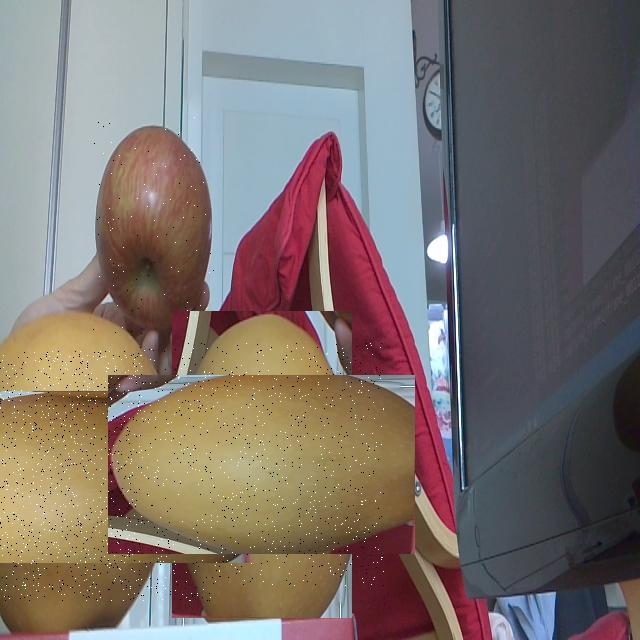apple: (93, 116, 215, 335)
pear: (140, 343, 384, 586), (0, 351, 211, 601)
